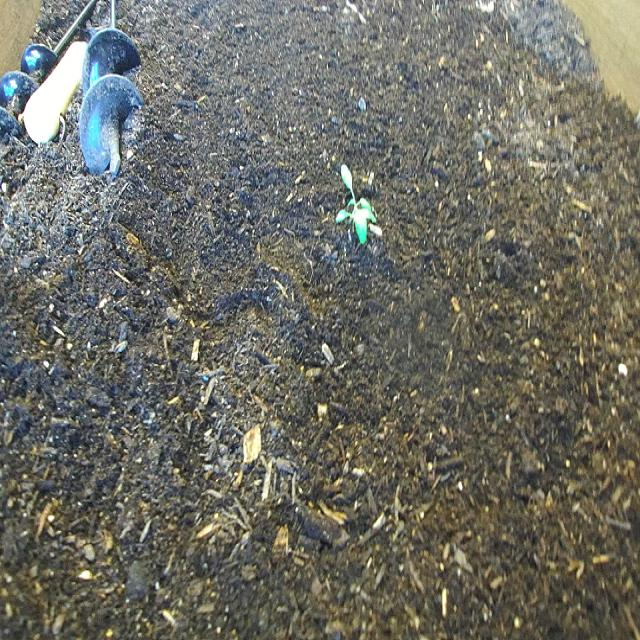Healthy: (328, 153, 388, 265)
